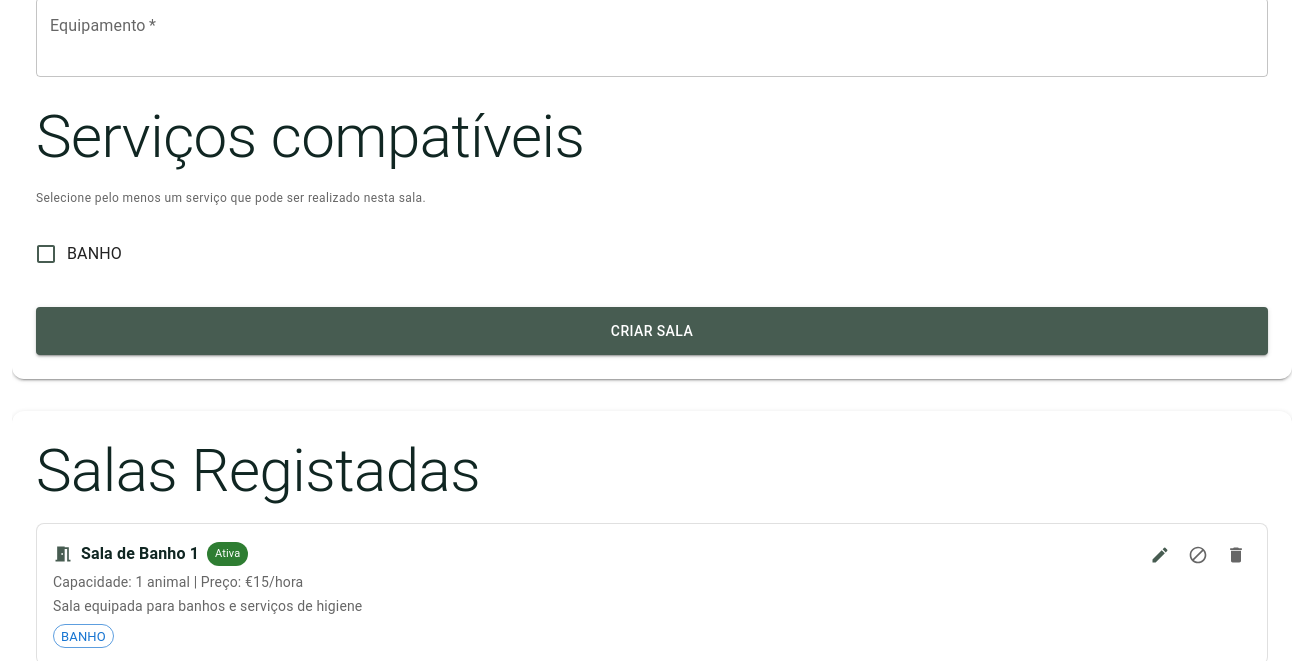
Salas page › clicar em editar preenche o formulário com dados da sala
(page scrolled)
Check: the heading "Sala de Banho 1" is shown, box [81,540,199,568]
Click the button titled "Editar sala".
click(1160, 555)  # box [1145,540,1175,570]
(page scrolled)
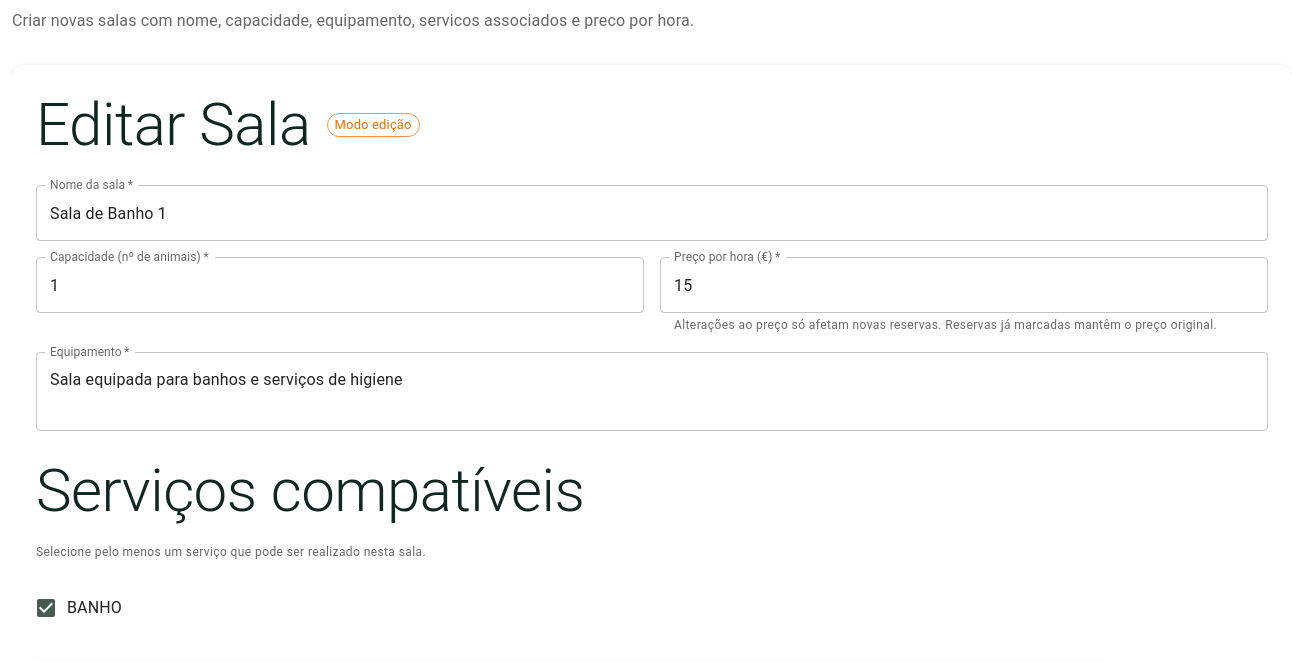
Check: the text box showing "Sala equipada para banhos e serviços de higiene" is shown, box [50,368,1254,414]
Check: the number field showing "15" is shown, box [660,257,1268,313]
Check: the heading "Editar Sala" is shown, box [36,89,311,161]
